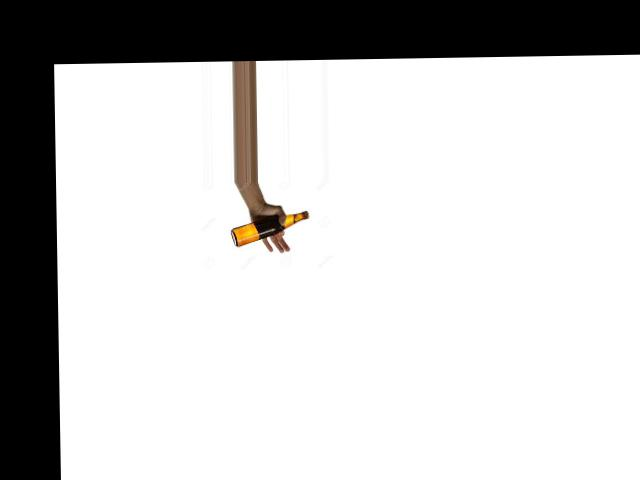beer: (230, 211, 307, 245)
